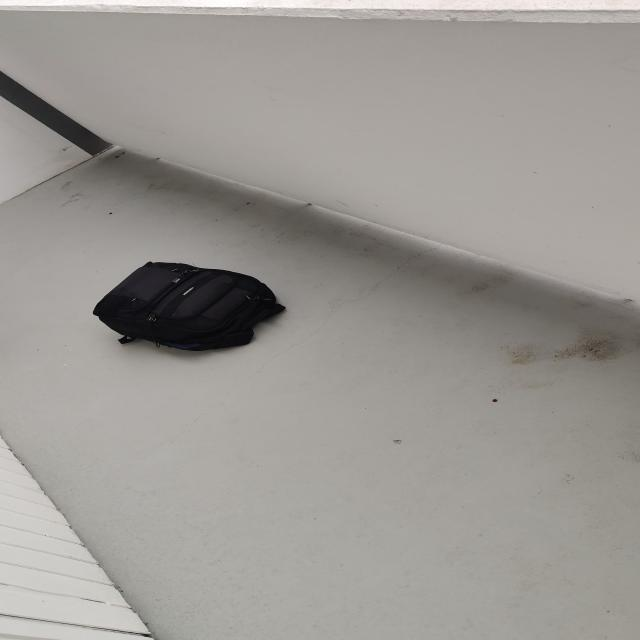backpack: (85, 258, 290, 352)
